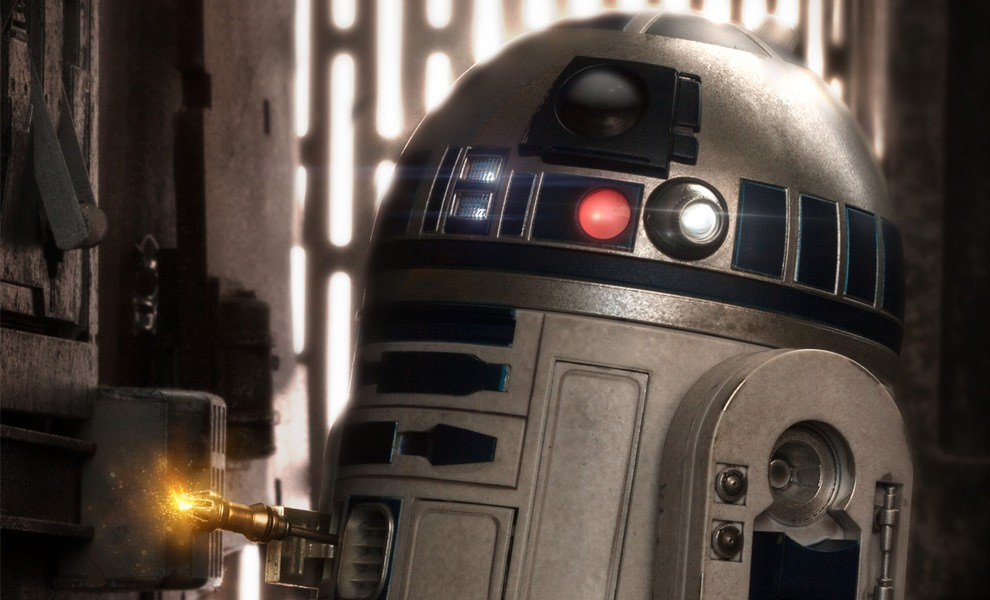r2d2: (307, 11, 916, 600)
